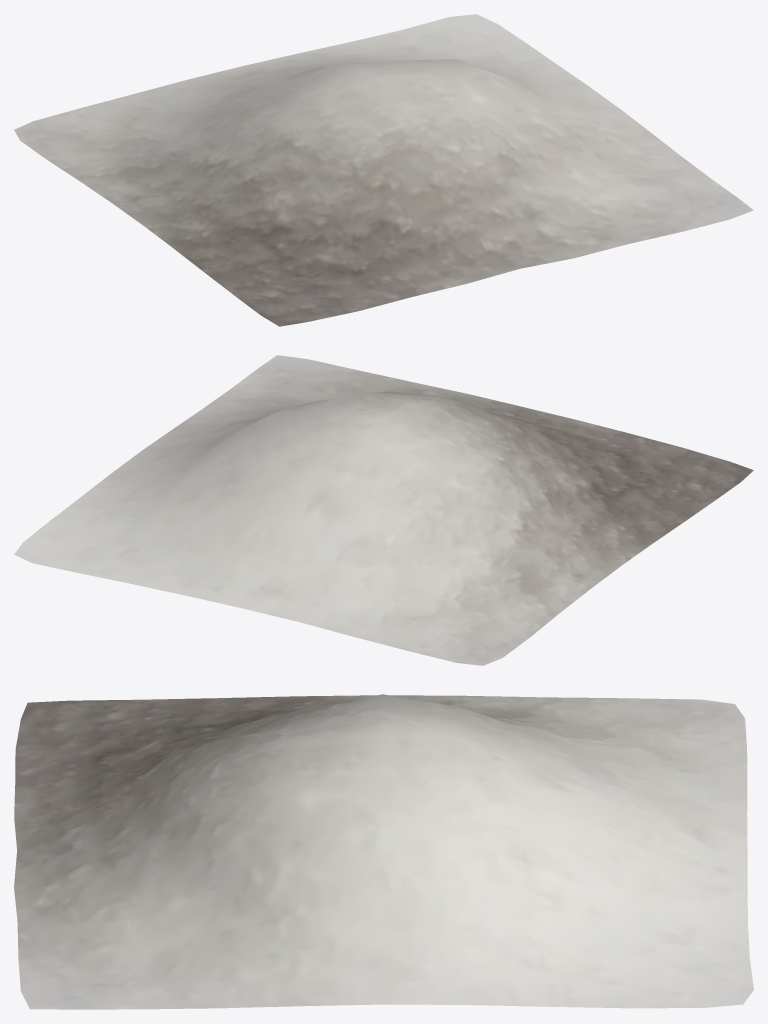
The model's file is salt.fbx.
3 views of the same model, one above another, from view 1: azimuth 30°, elevation 25°; view 2: azimuth 150°, elevation 25°; view 3: azimuth 270°, elevation 25° (orthographic). The views are drawn at different scales.
Parts seen in each view (by area): view 1: salt1; view 2: salt1; view 3: salt1.
Boxes of the visible parts, x1,y1,x2,y2 form: salt1: (14, 14, 753, 326); salt1: (14, 355, 753, 665); salt1: (14, 694, 753, 1009).
Bounding box in the file's own units: 52.92 × 9.73 × 53.46.
Materials: 1 (1 with a texture image).
